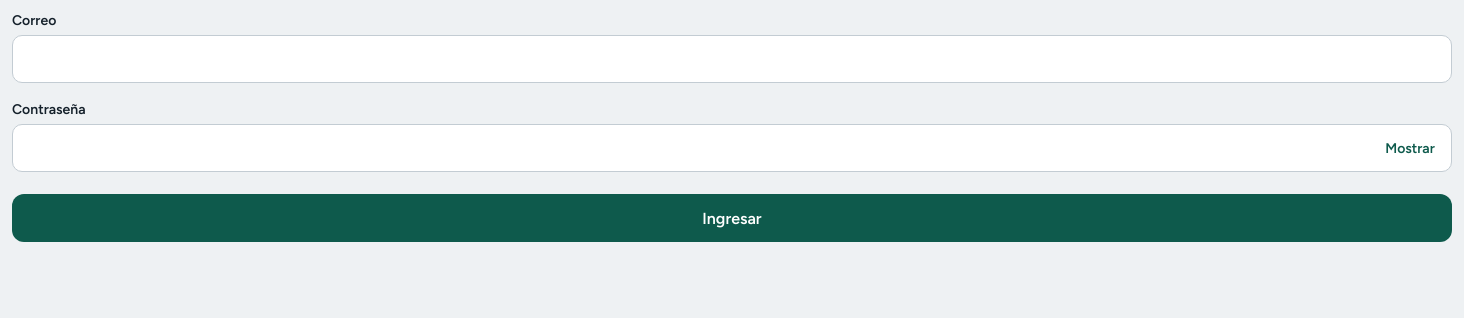
Test: LoginForm › shows the API error and lets the user try again
In the field labelled "Correo": (732, 59) [12, 35, 1452, 83], type "ana@example.com"
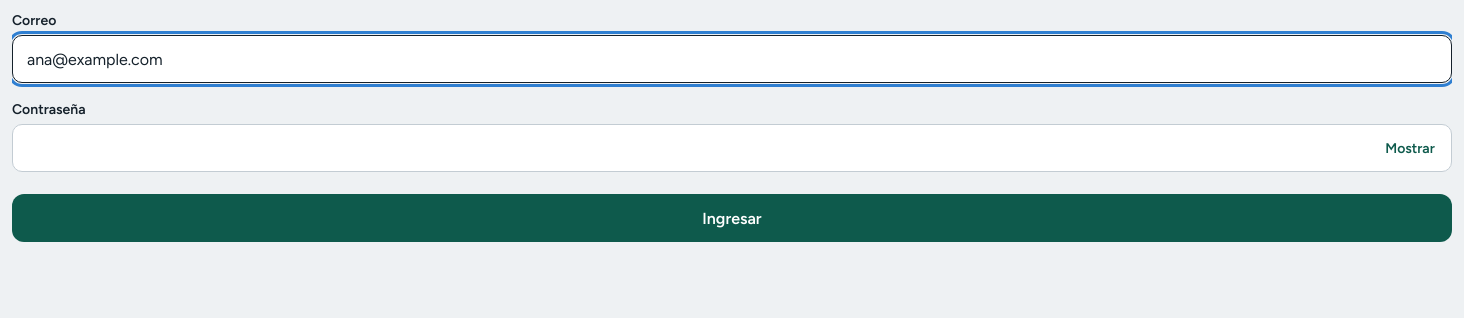
In the password field labelled "Contraseña": (732, 148) [12, 124, 1452, 172], type "otra-contraseña"
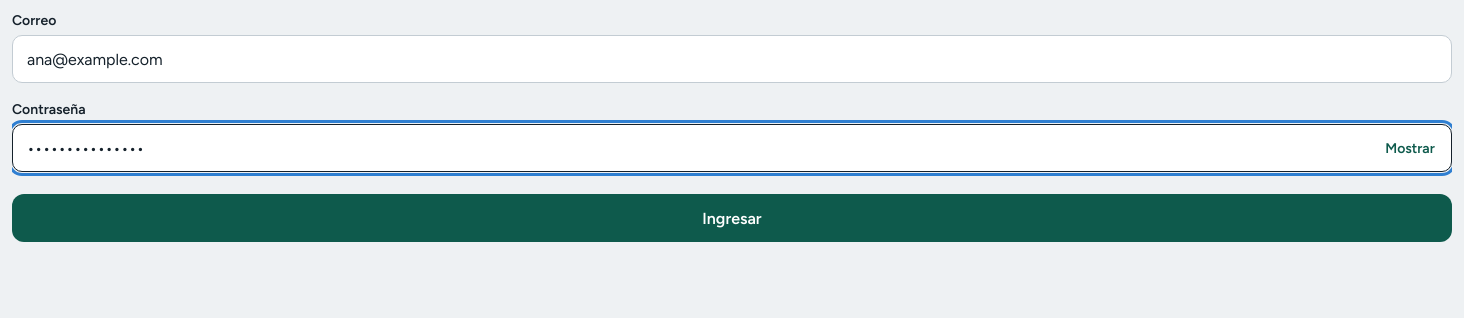
Click the button "Ingresar": click(732, 218) [12, 194, 1452, 242]
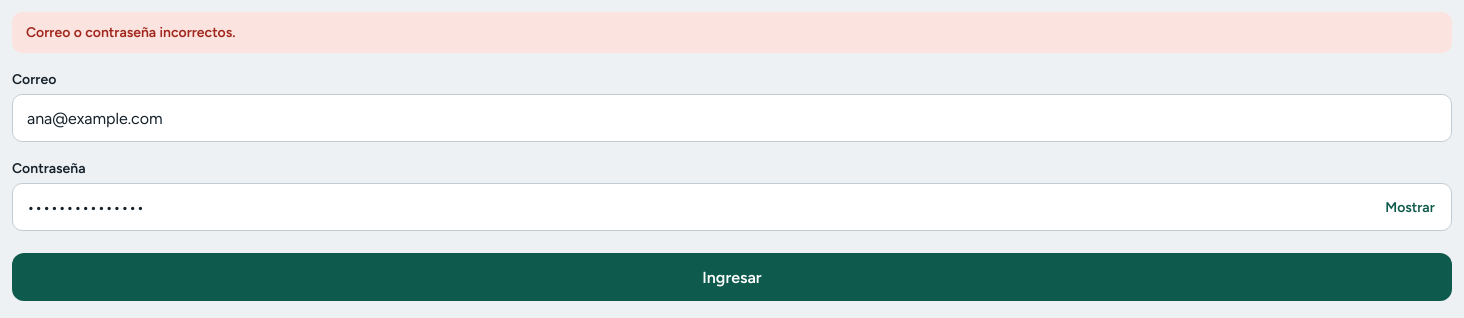
Expected: the button "Ingresar" is enabled, [12, 253, 1452, 301]
Now the message reads "Correo o contraseña incorrectos.", box [26, 24, 236, 41]
